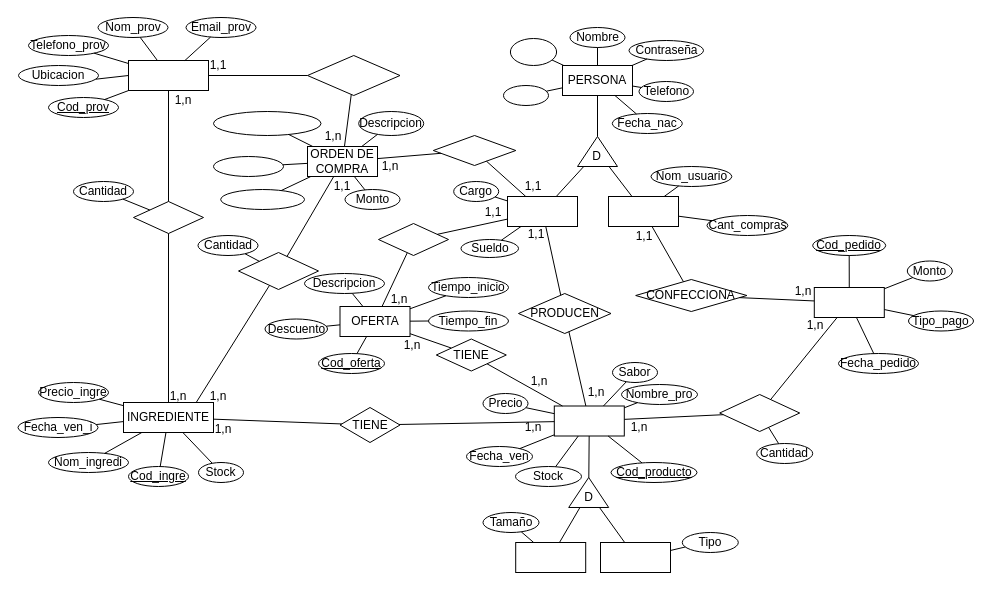
Image size: 991x590. Some labels were removed from this diagram. The centre of each missing label's shape, as x and y in pixels:
BOTE: (550,557)
CLIENTE: (643,211)
Cod_Orden: (248,166)
CONTIENE: (278,271)
CREA: (413,239)
Email: (525,95)
EMPLEADO: (542,211)
Fecha_ord: (262,199)
GENERA: (474,150)
INCLUYE: (759,413)
Metodo_pago_ord: (266,123)
PALETA: (635,557)
PEDIDO: (848,302)
PRODUCTO: (588,420)
PROVEE: (168,217)
PROVEEDOR: (168,75)
RECIBE: (353,75)
RUT: (533,52)
